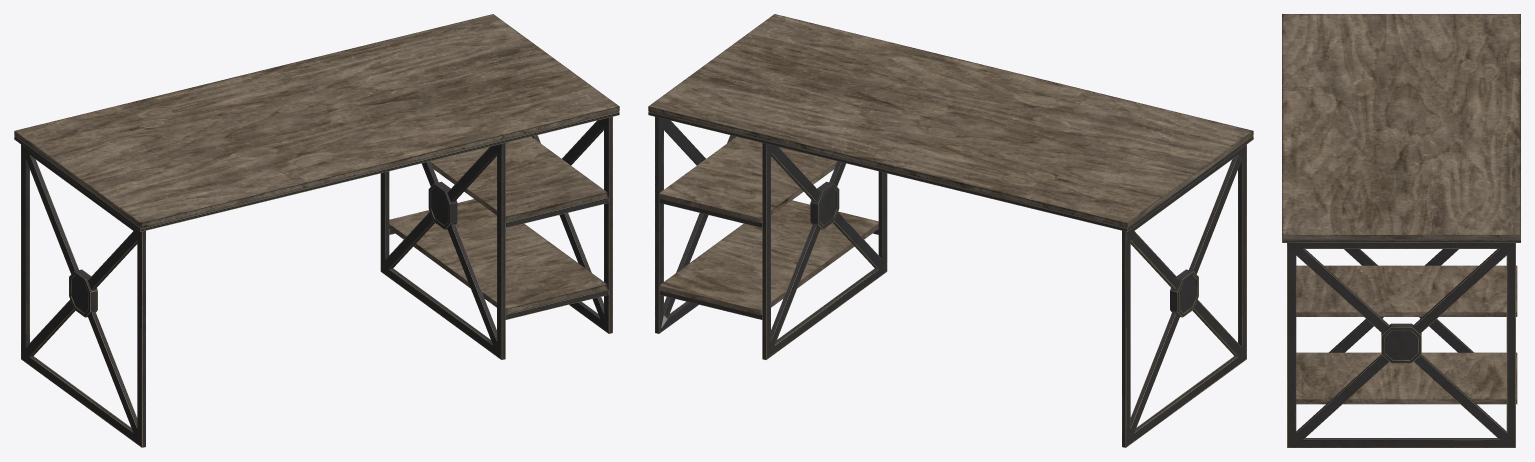
File: table_desk-9mb.glb
3 renders of one model, left to right at view 1: azimuth 30°, elevation 25°; view 2: azimuth 150°, elevation 25°; view 3: azimuth 270°, elevation 25°, orthographic. The views are drawn at different scales.
Visible parts, largest first — view 1: Cube_6; view 2: Cube_6; view 3: Cube_6.
Part boxes in pixels (x1=…): Cube_6: x1=14, y1=14, x2=619, y2=447; Cube_6: x1=648, y1=14, x2=1253, y2=447; Cube_6: x1=1282, y1=14, x2=1520, y2=447.
Size of the model in its own units: 1.86 by 0.8463 by 0.8525.
Materials: 1 (1 with a texture image).
